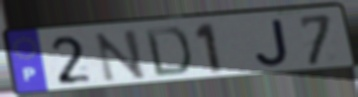1: (193, 21, 226, 76)
2: (49, 34, 95, 86)
7: (299, 12, 334, 67)
D: (142, 26, 194, 79)
J: (253, 17, 291, 69)
N: (92, 28, 149, 84)
